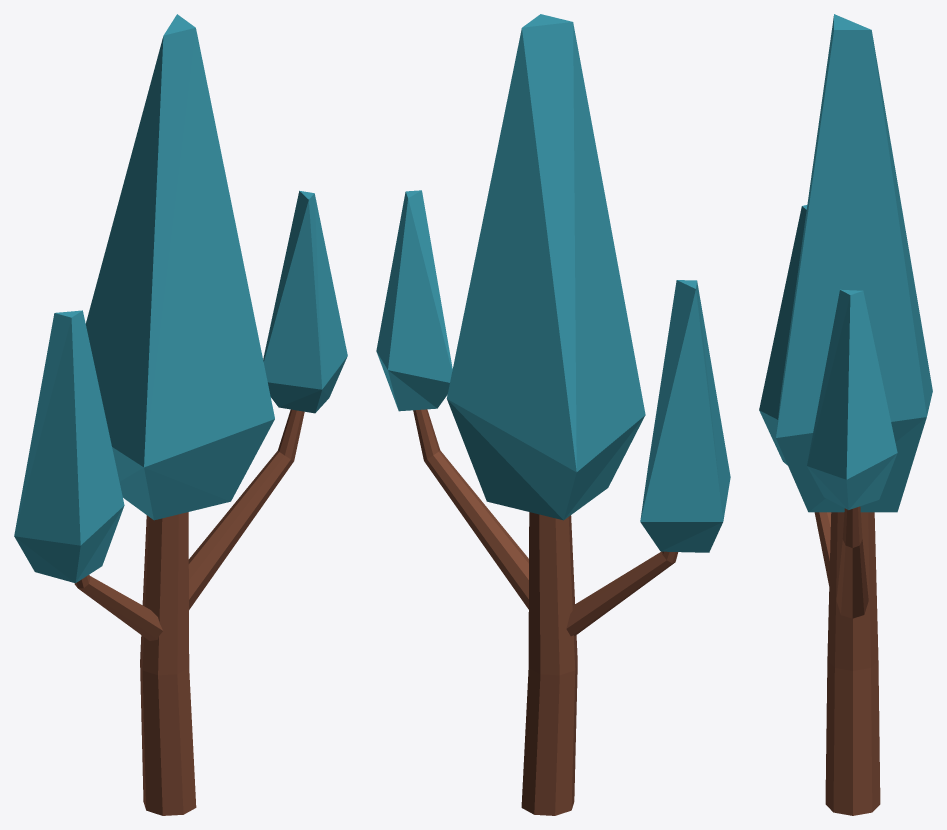
Rendered from Tree_50_summer_blue_vc.fbx.
The picture shows the model from 3 angles, left to right: view 1: azimuth 30°, elevation 25°; view 2: azimuth 150°, elevation 25°; view 3: azimuth 270°, elevation 25°; orthographic projection.
Parts seen in each view (by area): view 1: Tree_50_summer_blue_vc; view 2: Tree_50_summer_blue_vc; view 3: Tree_50_summer_blue_vc.
Part boxes in pixels (x1,y1,x2,y2): Tree_50_summer_blue_vc: (14,14,347,815); Tree_50_summer_blue_vc: (376,14,730,815); Tree_50_summer_blue_vc: (759,14,932,815).
Size of the model in its own units: 118 by 259 by 52.22.
